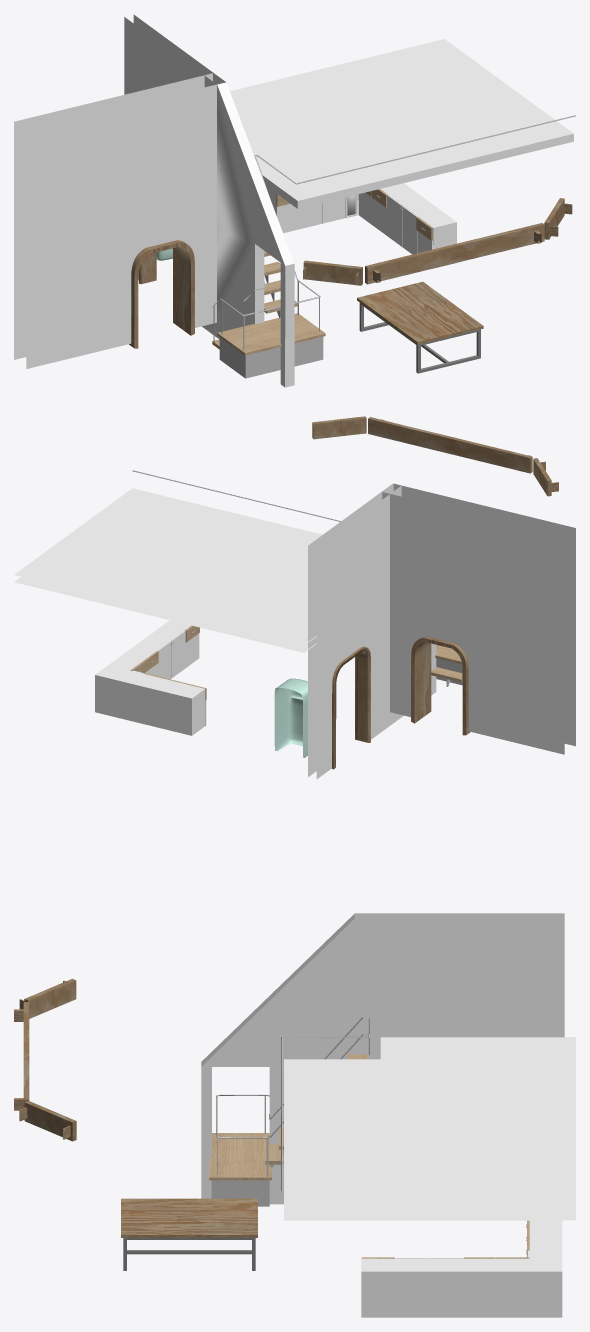
The model's file is Prefabs_CLEANED.fbx.
3 renders of one model, top to bottom at view 1: azimuth 30°, elevation 25°; view 2: azimuth 150°, elevation 25°; view 3: azimuth 270°, elevation 25°, orthographic. The views are drawn at different scales.
Visible parts, largest first — view 1: APT_Arch_WallClean (1), Second_Floor.002Clean (1), APT_Middle_WallClean (1), BaseKitchenClean (1), StairsClean (1), Dinning_TableClean (1), Curtain_RodClean (1), Curtain_Rod__2_Clean (1), Curtain_Rod__1_Clean (1); view 2: APT_Arch_WallClean (1), Second_Floor.002Clean (1), APT_Middle_WallClean (1), BaseKitchenClean (1), Curtain_RodClean (1), SmegFridgeLowClean2 (1), StairsClean (1), Curtain_Rod__1_Clean (1), Curtain_Rod__2_Clean (1); view 3: Second_Floor.002Clean (1), APT_Middle_WallClean (1), BaseKitchenClean (1), Dinning_TableClean (1), StairsClean (1), Curtain_Rod__1_Clean (1), Curtain_Rod__2_Clean (1), Curtain_RodClean (1).
Boxes of the visible parts, left/top/right/bottom form: APT_Arch_WallClean (1): left=14, top=73, right=225, bottom=368; Second_Floor.002Clean (1): left=230, top=39, right=573, bottom=208; APT_Middle_WallClean (1): left=124, top=14, right=294, bottom=387; BaseKitchenClean (1): left=266, top=183, right=456, bottom=268; StairsClean (1): left=210, top=115, right=575, bottom=378; Dinning_TableClean (1): left=357, top=281, right=483, bottom=373; Curtain_RodClean (1): left=365, top=223, right=544, bottom=284; Curtain_Rod__2_Clean (1): left=303, top=260, right=362, bottom=285; Curtain_Rod__1_Clean (1): left=544, top=198, right=572, bottom=239; APT_Arch_WallClean (1): left=382, top=483, right=575, bottom=754; Second_Floor.002Clean (1): left=14, top=488, right=322, bottom=652; APT_Middle_WallClean (1): left=308, top=483, right=436, bottom=778; BaseKitchenClean (1): left=95, top=620, right=206, bottom=735; Curtain_RodClean (1): left=368, top=417, right=532, bottom=473; SmegFridgeLowClean2 (1): left=274, top=678, right=307, bottom=757; StairsClean (1): left=132, top=470, right=462, bottom=686; Curtain_Rod__1_Clean (1): left=312, top=416, right=366, bottom=439; Curtain_Rod__2_Clean (1): left=533, top=458, right=558, bottom=496; Second_Floor.002Clean (1): left=284, top=1037, right=575, bottom=1220; APT_Middle_WallClean (1): left=201, top=913, right=564, bottom=1204; BaseKitchenClean (1): left=361, top=1220, right=562, bottom=1317; Dinning_TableClean (1): left=121, top=1198, right=257, bottom=1270; StairsClean (1): left=209, top=1017, right=369, bottom=1206; Curtain_Rod__1_Clean (1): left=19, top=1100, right=76, bottom=1141; Curtain_Rod__2_Clean (1): left=19, top=978, right=76, bottom=1018; Curtain_RodClean (1): left=14, top=1002, right=29, bottom=1110.
Bounding box in the file's own units: 1689 × 795 × 1409.
